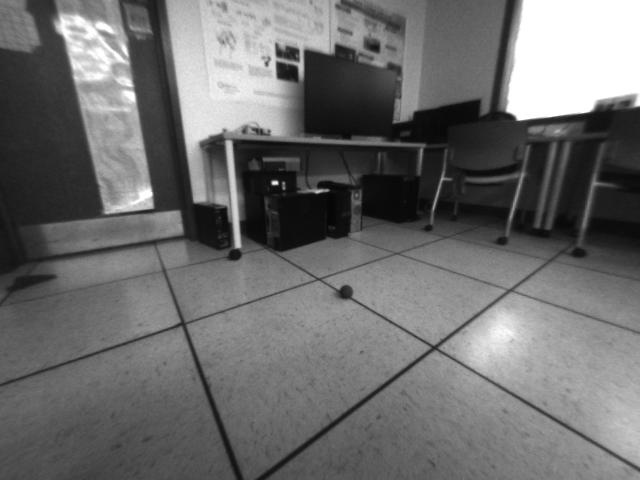dogtoy: (332, 274, 363, 305)
